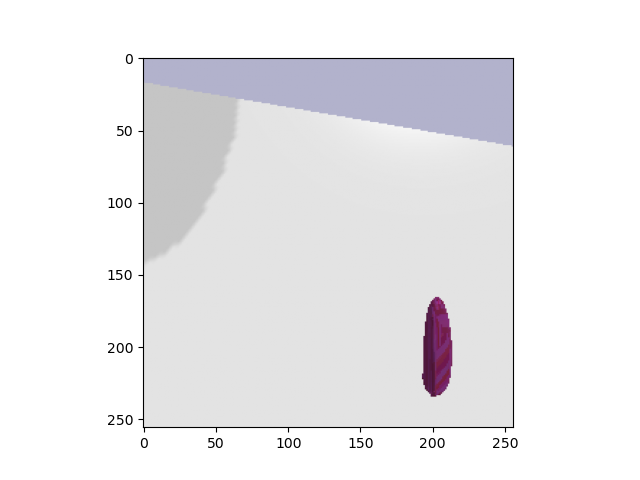v249b387_105: (412, 294, 460, 402)
